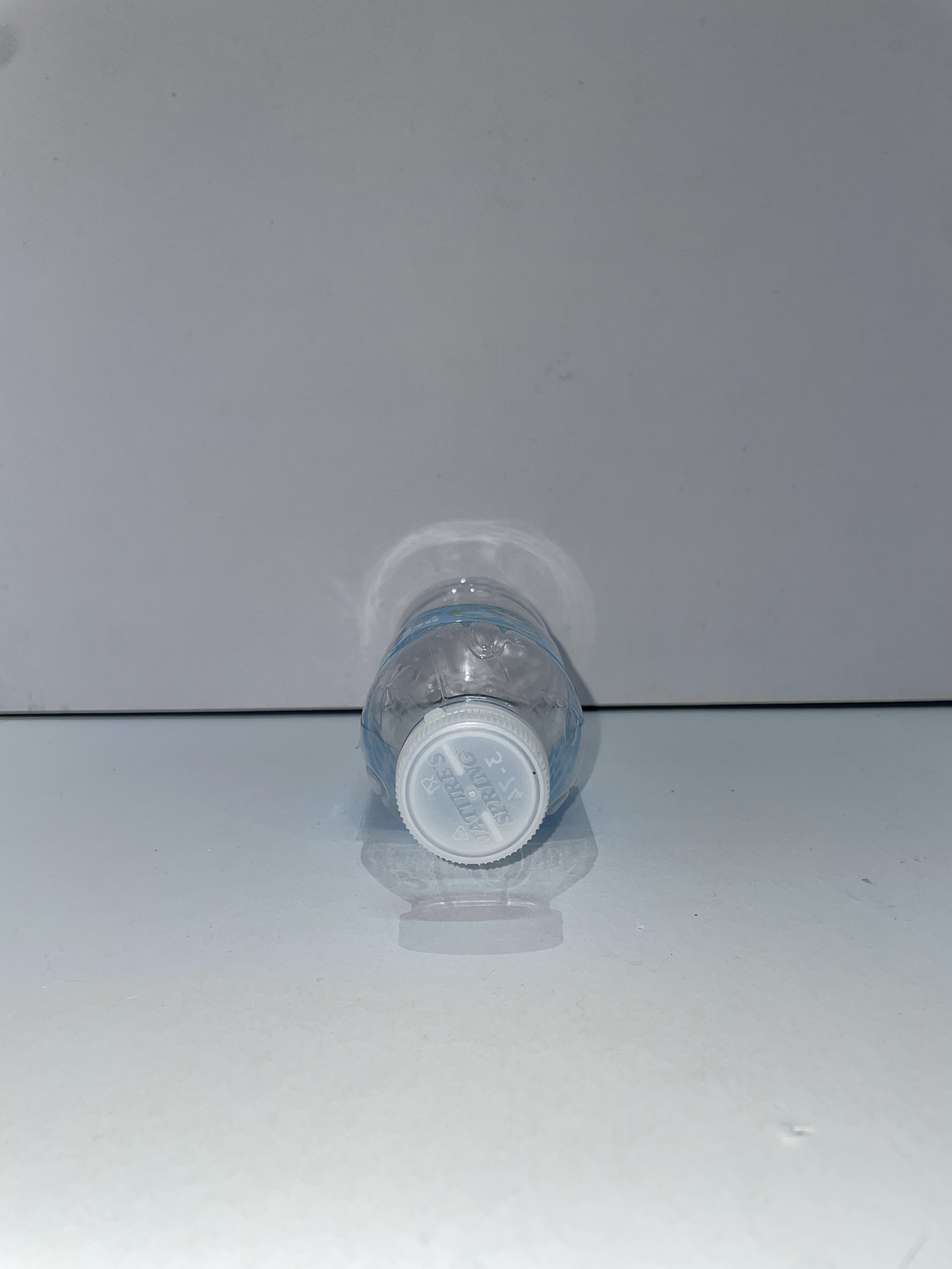natures spring 500ml: (362, 575, 582, 865)
